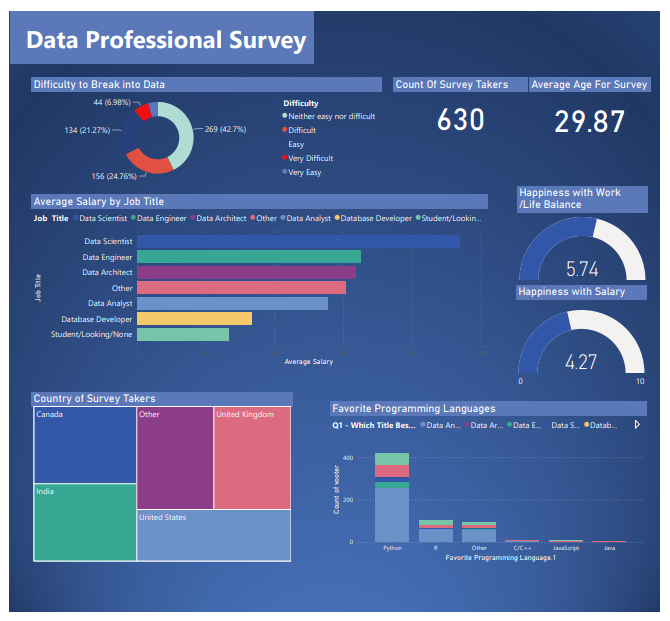

What the dashboard file says about the page in this screenshot:
{"tool":"powerbi","page":{"name":"Page 1","canvas":[1300,1200],"ordinal":0},"visuals":[{"type":"card","title":"Count Of Survey Takers","fields":{"Values":["Count(Data Professional Survey.Unique ID)"]},"box":[766.7,133.3,269,123.8],"z":0},{"type":"card","title":"Average Age For Survey","fields":{"Values":["Avg(Data Professional Survey.Q10 - Current Age)"]},"box":[1038.1,133.3,242.9,133.3],"z":1000},{"type":"barChart","title":"Average Salary by Job Title","fields":{"Category":["Data Professional Survey.Q1 - Which Title Best Fits your Current Role?.1"],"Y":["Avg(Data Professional Survey.Avg Salary)"],"Series":["Data Professional Survey.Q1 - Which Title Best Fits your Current Role?.1"]},"box":[42.9,366.7,914.3,347.6],"z":2000},{"type":"columnChart","title":" Favorite Programming Languages","fields":{"Category":["Data Professional Survey.Q5 - Favorite Programming Language.1"],"Y":["CountNonNull(Data Professional Survey.Unique ID)"],"Series":["Data Professional Survey.Q1 - Which Title Best Fits your Current Role?.1"]},"box":[640.5,781,633.3,323.8],"z":3000},{"type":"treemap","title":"Country of Survey Takers","fields":{"Group":["Data Professional Survey.Q11 - Which Country do you live in?.1"],"Values":["Count(Data Professional Survey.Q11 - Which Country do you live in?.1)"]},"box":[42.9,761.9,523.8,342.9],"z":4000},{"type":"gauge","title":" Happiness with Work /Life Balance ","fields":{"Y":["Avg(Data Professional Survey.Q6 - How Happy are you in your Current Position with the following? (Work/Life Balance))"],"MinValue":["Min(Data Professional Survey.Q6 - How Happy are you in your Current Position with the following? (Work/Life Balance))1"],"MaxValue":["Max(Data Professional Survey.Q6 - How Happy are you in your Current Position with the following? (Work/Life Balance))2"]},"box":[1014.3,350,261.9,233.3],"z":5000},{"type":"gauge","title":"Happiness with Salary","fields":{"Y":["Avg(Data Professional Survey.Q6 - How Happy are you in your Current Position with the following? (Salary))"],"MinValue":["Min(Data Professional Survey.Q6 - How Happy are you in your Current Position with the following? (Salary))"],"MaxValue":["Max(Data Professional Survey.Q6 - How Happy are you in your Current Position with the following? (Salary))"]},"box":[1011.9,547.6,261.9,233.3],"z":6000},{"type":"donutChart","title":" Difficulty  to Break into Data ","fields":{"Category":["Data Professional Survey.Q7 - How difficult was it for you to break into Data?"],"Y":["CountNonNull(Data Professional Survey.Q7 - How difficult was it for you to break into Data?)"]},"box":[42.9,133.3,702.4,216.7],"z":7000},{"type":"textbox","box":[0,0,607.1,104.8],"z":8000}]}

Visuals, with their boxes in screenshot pixels (x1, y1, x2, y2), scaled from the page's 1300x1200 canvas onto the 670x621 screenshot:
"Count Of Survey Takers" card: bbox=[395, 69, 534, 133]
"Average Age For Survey" card: bbox=[535, 69, 660, 138]
"Average Salary by Job Title" barChart: bbox=[22, 190, 493, 370]
" Favorite Programming Languages" columnChart: bbox=[330, 404, 656, 572]
"Country of Survey Takers" treemap: bbox=[22, 394, 292, 572]
" Happiness with Work /Life Balance " gauge: bbox=[523, 181, 658, 302]
"Happiness with Salary" gauge: bbox=[522, 283, 656, 404]
" Difficulty  to Break into Data " donutChart: bbox=[22, 69, 384, 181]
textbox: bbox=[0, 0, 313, 54]
